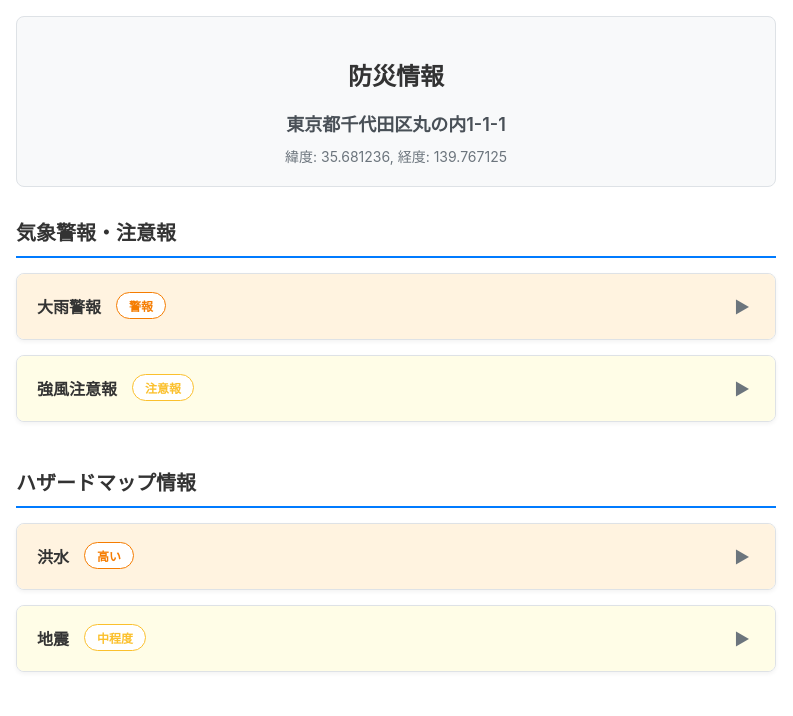
Test case: DisasterInfoDisplayComponent › 気象警報 › 気象警報の詳細情報が展開できる
The image size is (793, 716).
Click the text "大雨警報" at (396, 306), box [17,274,775,339]
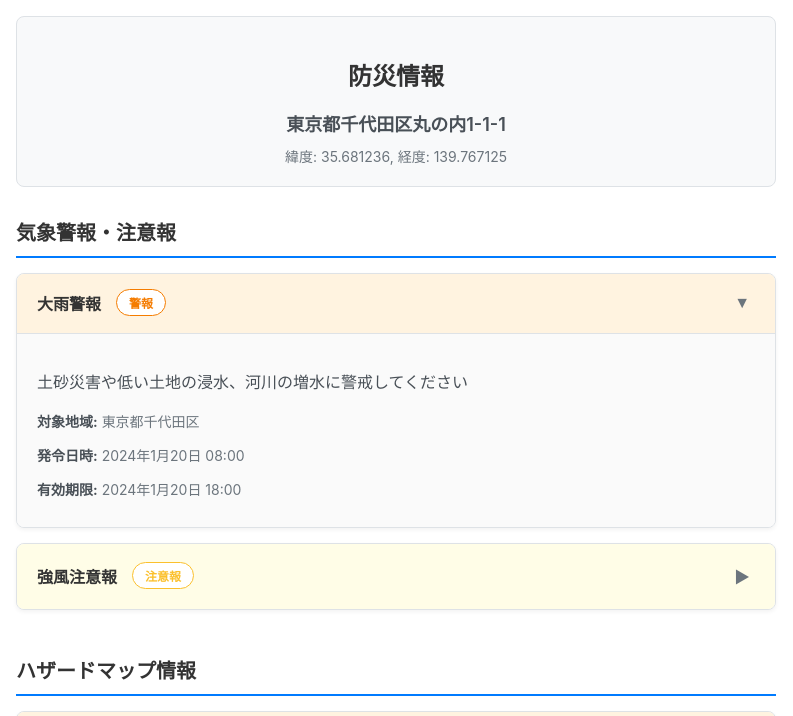
Expected: the text "土砂災害や低い土地の浸水、河川の増水に警戒してください" is shown, [37,372,468,392]
Expected: the text "東京都千代田区" is shown, [102,412,200,430]
